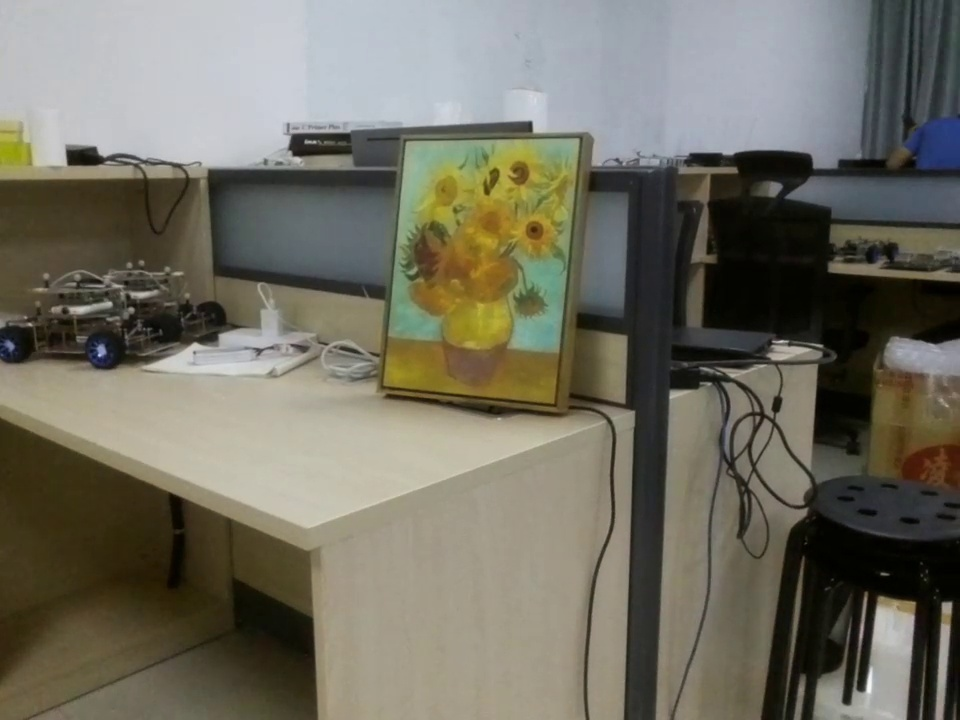painting: (382, 133, 594, 413)
